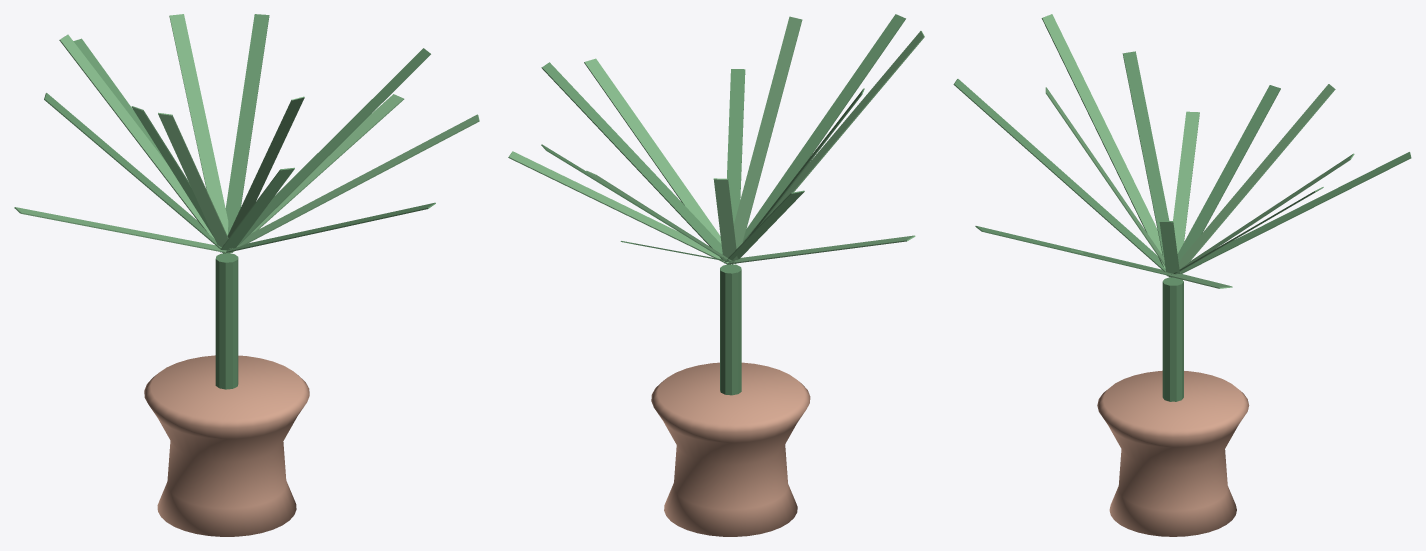
File: palm_urn.glb
3 views of the same model, side by side, from view 1: azimuth 30°, elevation 25°; view 2: azimuth 150°, elevation 25°; view 3: azimuth 270°, elevation 25° (orthographic). The views are drawn at different scales.
Visible parts, largest first — view 1: palm_urn; view 2: palm_urn; view 3: palm_urn.
Part boxes in pixels (bbox=[...]): palm_urn: bbox=[14, 14, 479, 536]; palm_urn: bbox=[508, 14, 924, 536]; palm_urn: bbox=[953, 14, 1411, 536].
Size of the model in its own units: 2.8 by 3.21 by 3.02.
